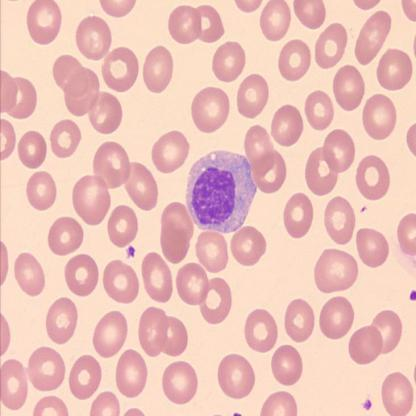Metamyelocyte: (183, 146, 259, 237)
